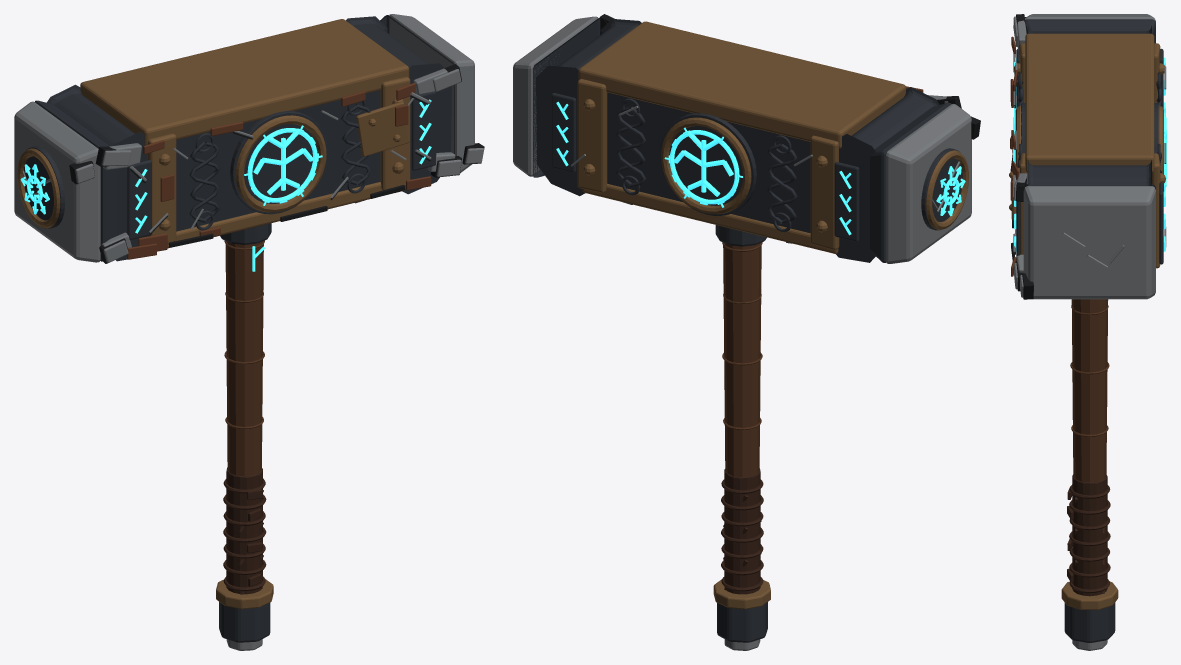
The model's file is Mjolnir.glb.
3 renders of one model, left to right at view 1: azimuth 30°, elevation 25°; view 2: azimuth 150°, elevation 25°; view 3: azimuth 270°, elevation 25°, orthographic. The views are drawn at different scales.
Parts seen in each view (by area): view 1: Cylinder166_2, Cylinder166, Cylinder166_1, Cylinder166_4, Cylinder166_5, Cylinder166_3, Cylinder166_6, Cylinder166_7; view 2: Cylinder166_2, Cylinder166, Cylinder166_1, Cylinder166_4, Cylinder166_5, Cylinder166_3; view 3: Cylinder166_2, Cylinder166_1, Cylinder166, Cylinder166_4, Cylinder166_5, Cylinder166_7, Cylinder166_3, Cylinder166_6.
Part boxes in pixels (bbox=[...]): Cylinder166_2: bbox=[17, 19, 410, 609]; Cylinder166: bbox=[24, 15, 454, 642]; Cylinder166_1: bbox=[14, 14, 484, 650]; Cylinder166_4: bbox=[224, 240, 264, 476]; Cylinder166_5: bbox=[223, 467, 266, 594]; Cylinder166_3: bbox=[20, 99, 431, 271]; Cylinder166_6: bbox=[127, 83, 431, 259]; Cylinder166_7: bbox=[69, 64, 484, 263]; Cylinder166_2: bbox=[577, 21, 968, 609]; Cylinder166: bbox=[533, 17, 962, 642]; Cylinder166_1: bbox=[513, 15, 971, 650]; Cylinder166_4: bbox=[722, 242, 762, 477]; Cylinder166_5: bbox=[721, 468, 763, 594]; Cylinder166_3: bbox=[556, 101, 965, 235]; Cylinder166_2: bbox=[1009, 33, 1165, 609]; Cylinder166_1: bbox=[1013, 14, 1166, 650]; Cylinder166: bbox=[1016, 19, 1163, 642]; Cylinder166_4: bbox=[1070, 299, 1109, 482]; Cylinder166_5: bbox=[1067, 474, 1110, 596]; Cylinder166_7: bbox=[1010, 14, 1033, 299]; Cylinder166_3: bbox=[1013, 57, 1166, 251]; Cylinder166_6: bbox=[1010, 36, 1018, 276].
Size of the model in its own units: 1.07 by 1.4 by 0.3644.
